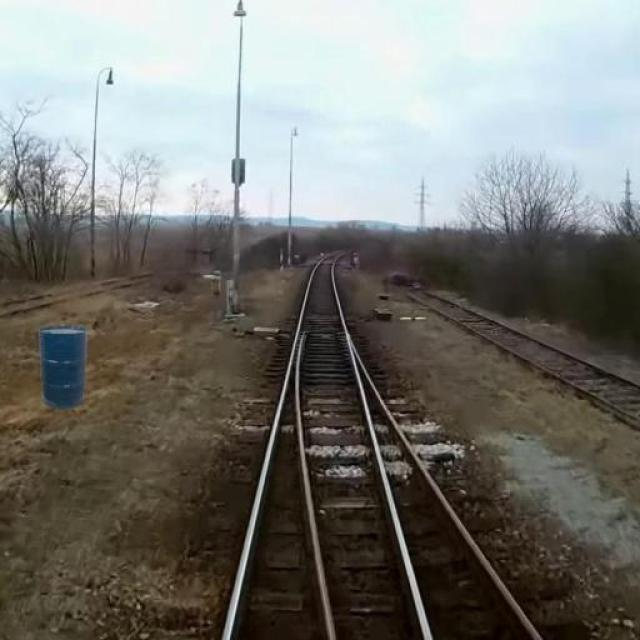Other_objects: (38, 320, 93, 417)
